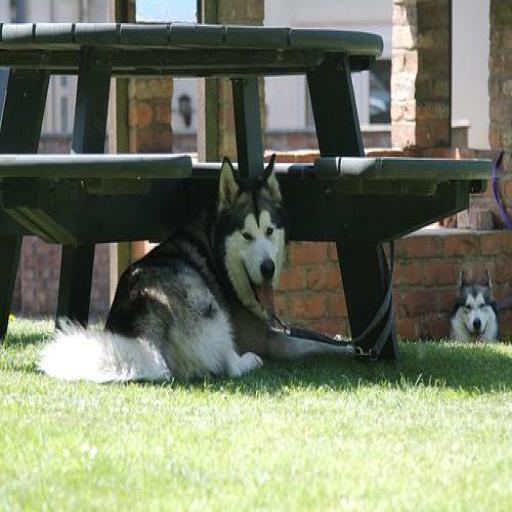dog_face: (219, 152, 285, 298)
